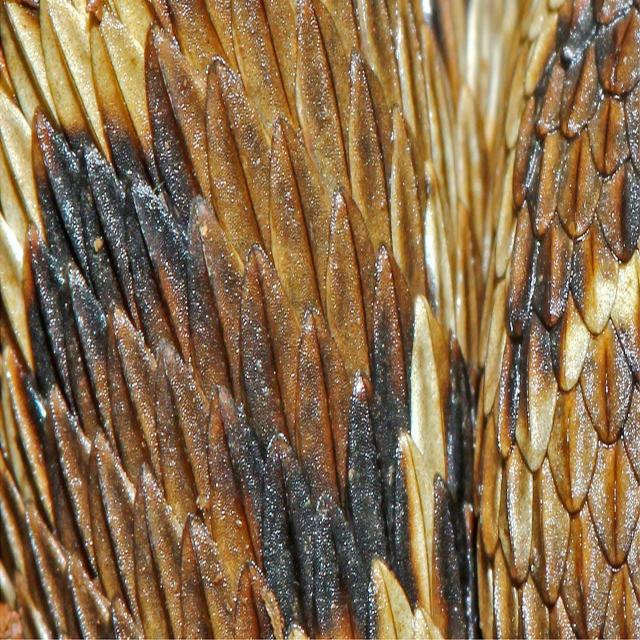Snake: (1, 0, 637, 638)
